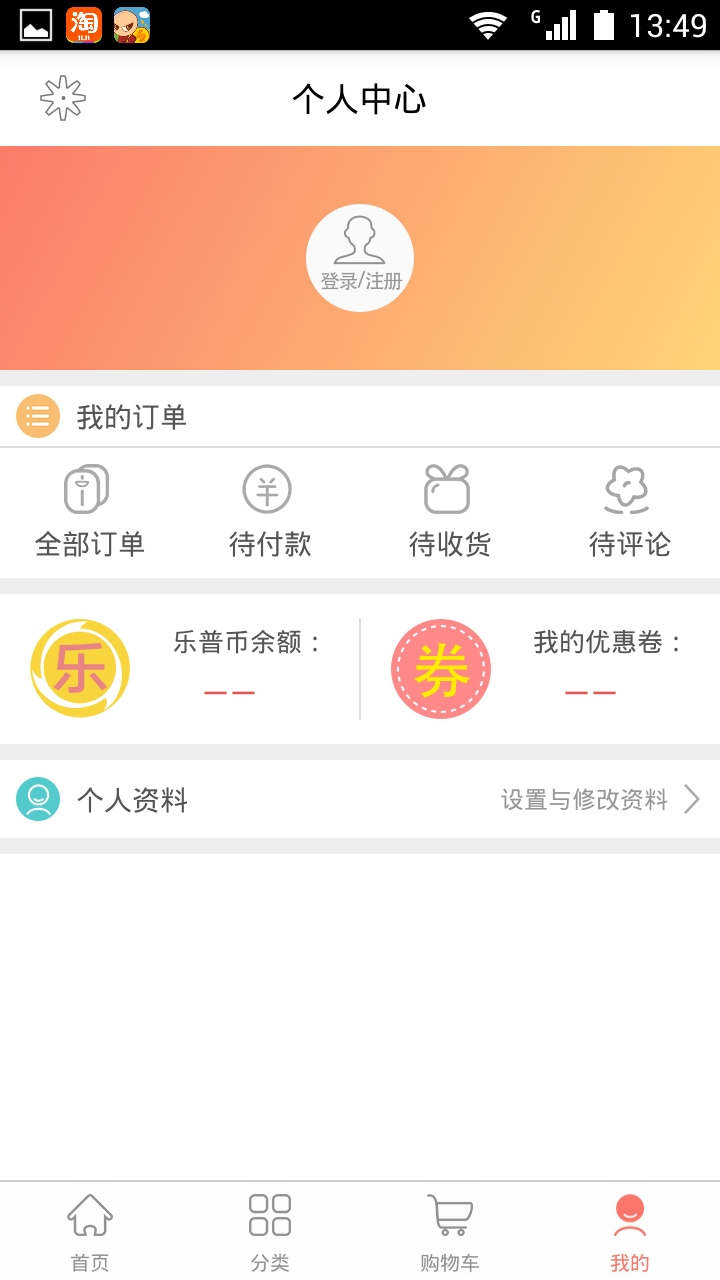imgbutton: (300, 201, 429, 314), (32, 74, 99, 127), (8, 392, 69, 438)
nav: (13, 449, 715, 578), (13, 1180, 667, 1280)
textview: (8, 760, 676, 837), (126, 60, 686, 144)
